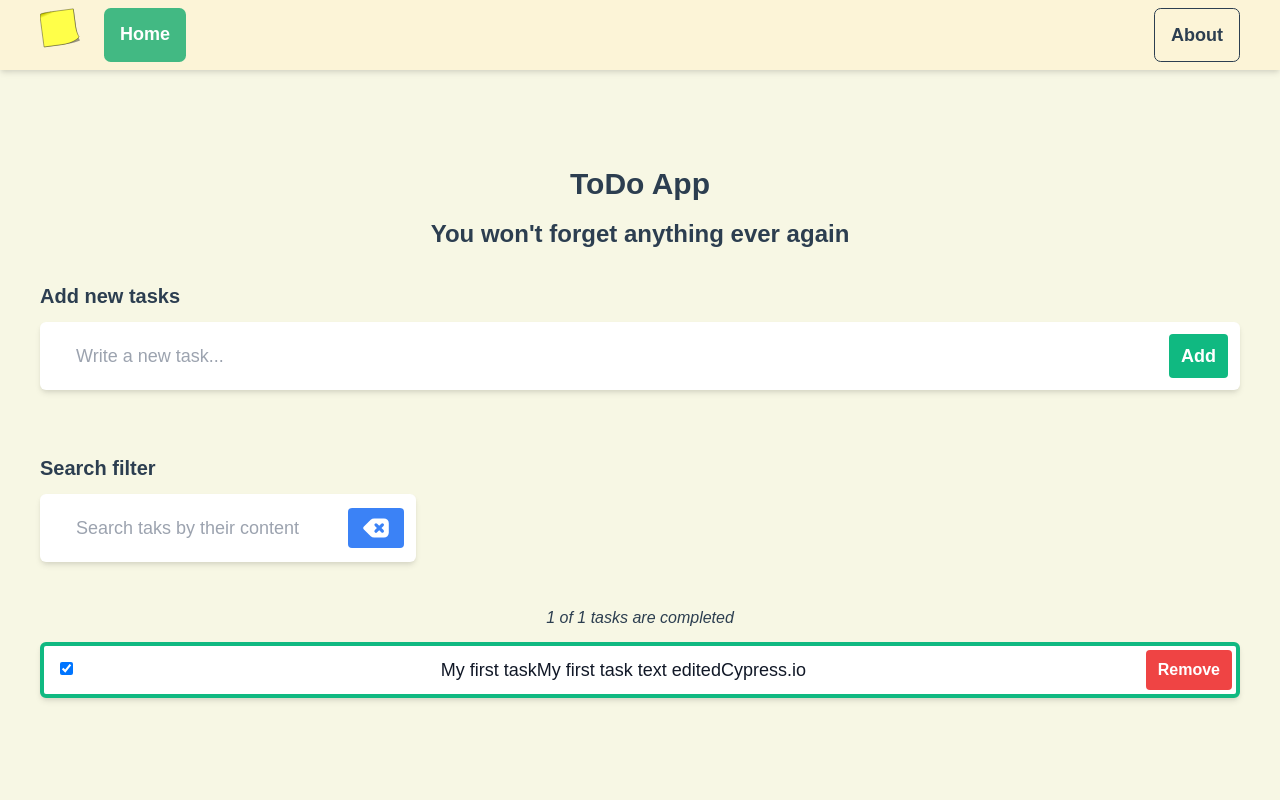
Test: task list › can delete a task's text
Check: the text "1 of 1 tasks are completed" is shown, box x1=546 y1=609 x2=734 y2=626
What coordinates should you click on to do the following:
click the button "Remove"
I would click on:
 (1189, 670)
Its box is x1=1146 y1=650 x2=1232 y2=690.
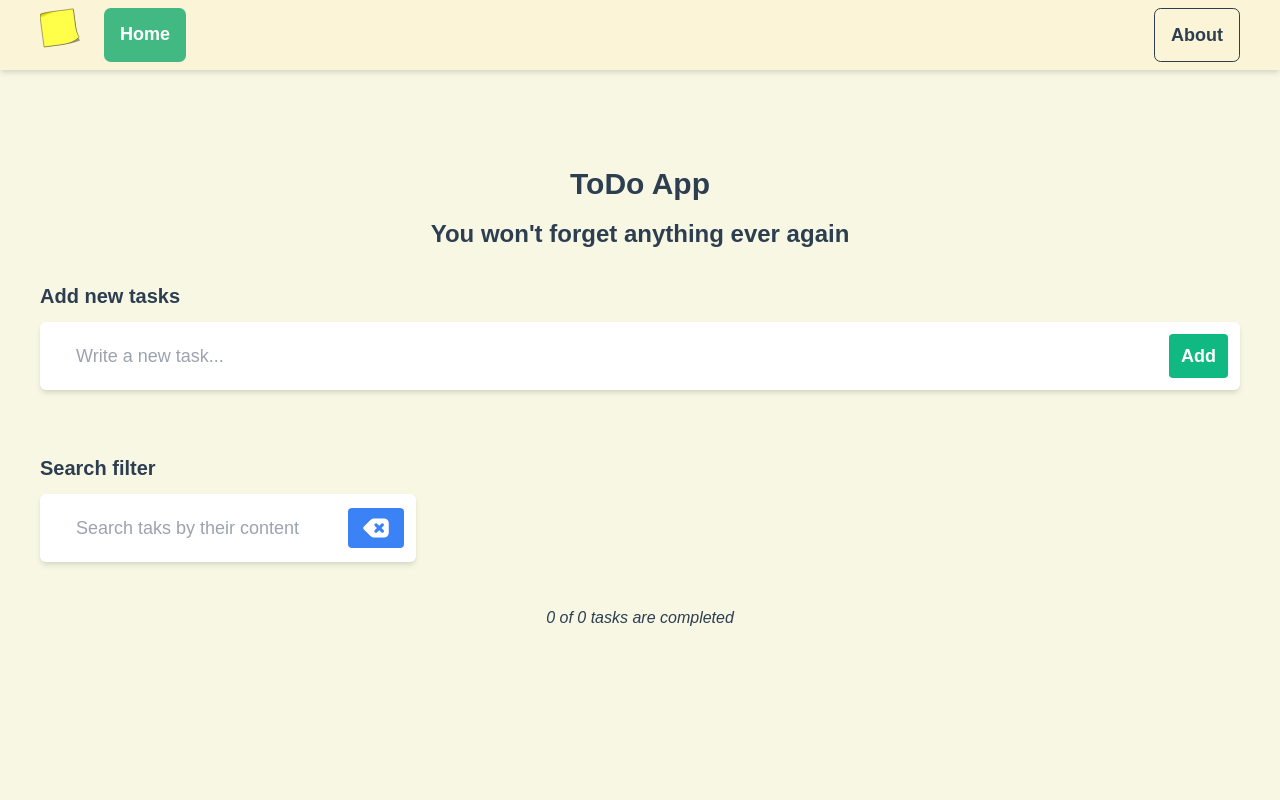
Check: the text "0 of 0 tasks are completed" is shown, box x1=546 y1=609 x2=734 y2=626
